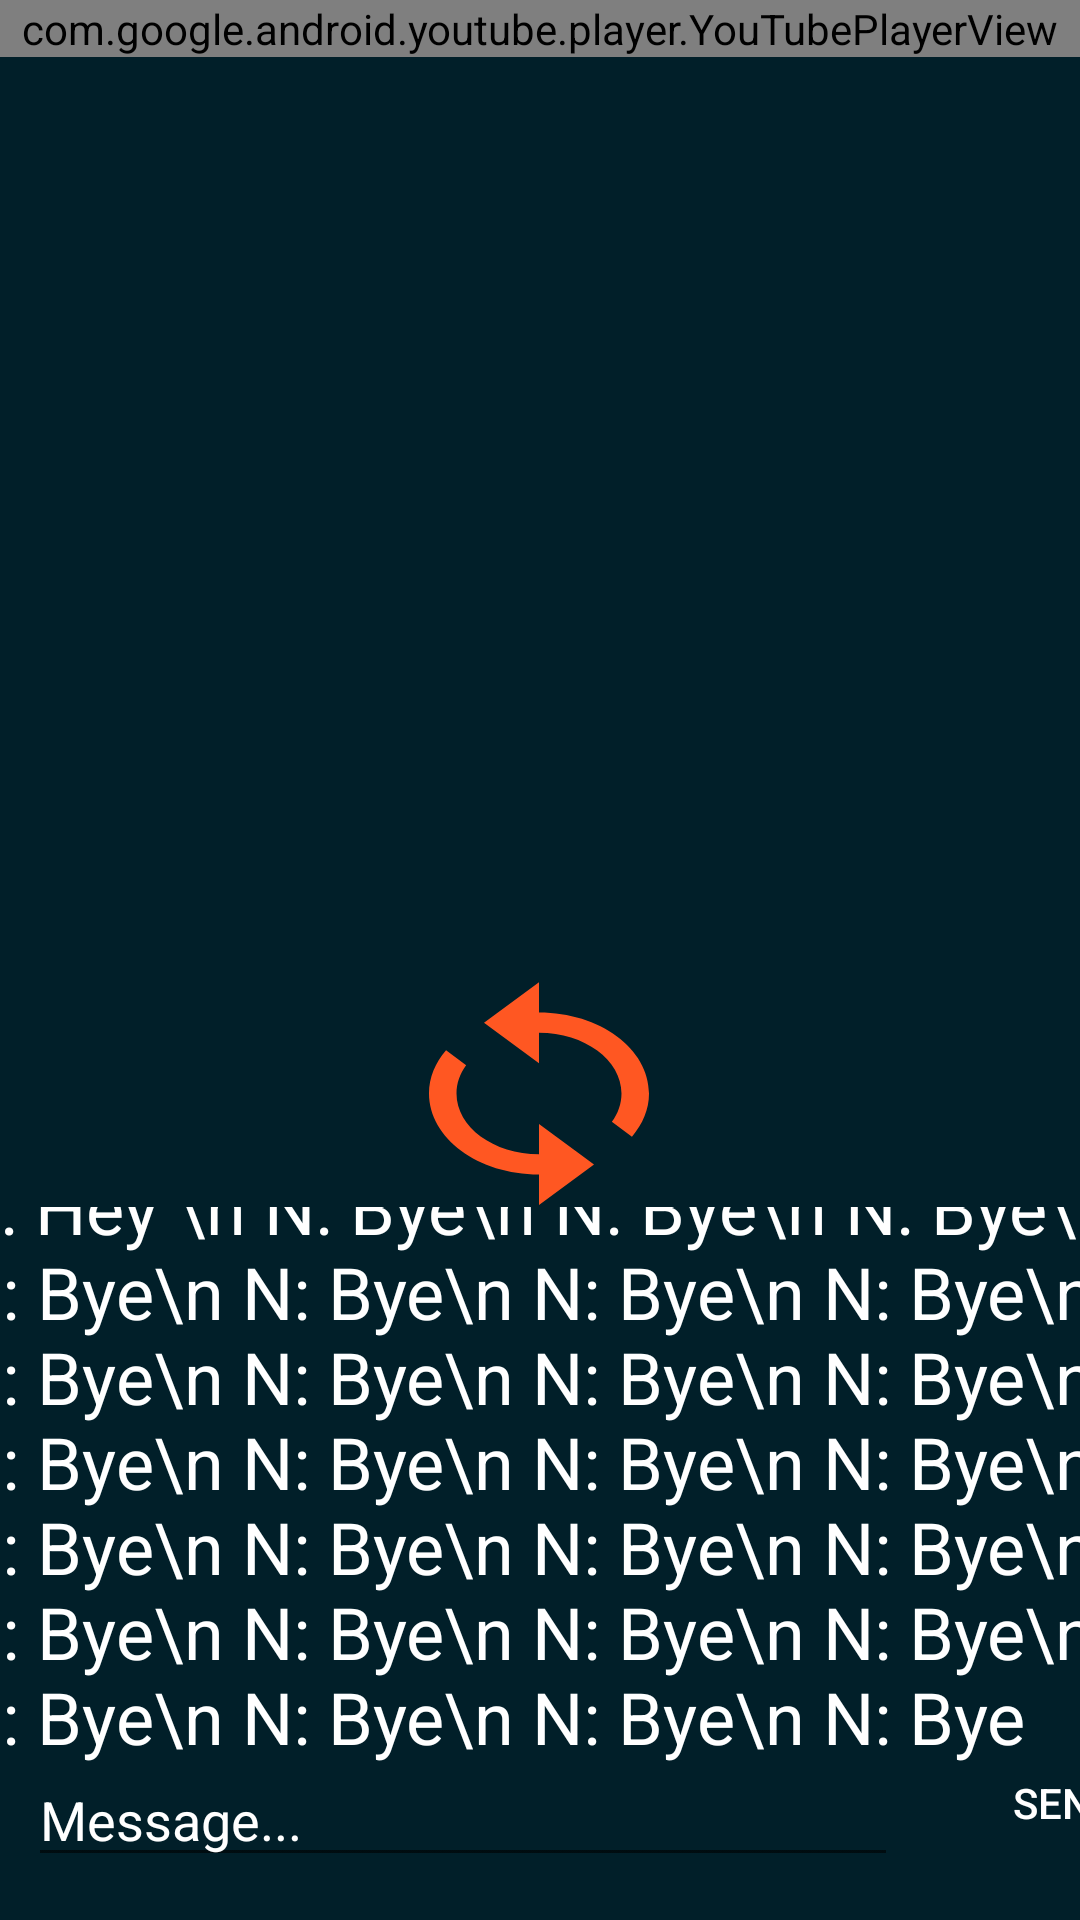

Named icons in this screenshot (1080px x 1920px) and their centers, (x,y):
sync: (539,1093)
